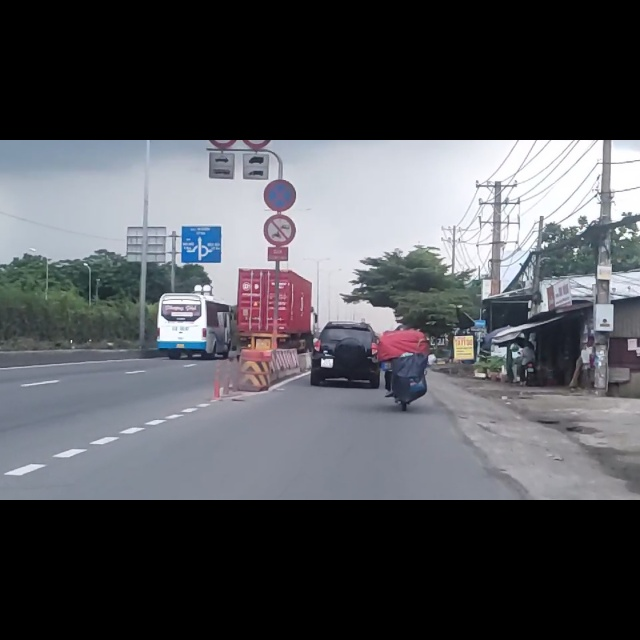bien_cam: (263, 129, 298, 188), (263, 70, 297, 127)
